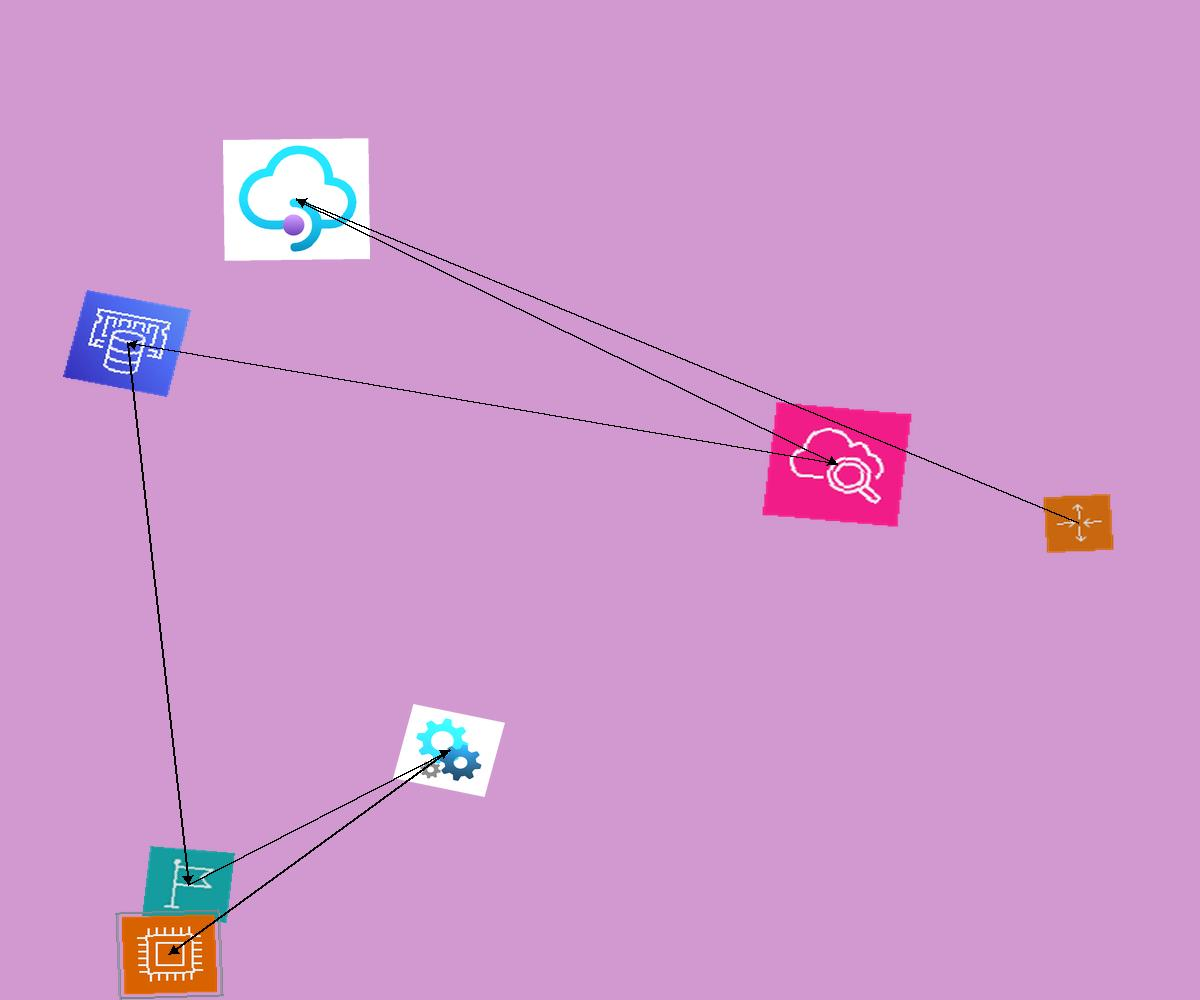AWS-Category_Compute: (115, 909, 224, 1000)
AWS-CloudWatch: (761, 401, 913, 528)
AWS-ElastiCache: (63, 290, 191, 397)
AWS-Region: (142, 846, 235, 923)
AWS-Scaling-group: (1042, 493, 1115, 554)
Azure_api: (393, 704, 505, 797)
Azure_api_gateway: (223, 138, 370, 261)
